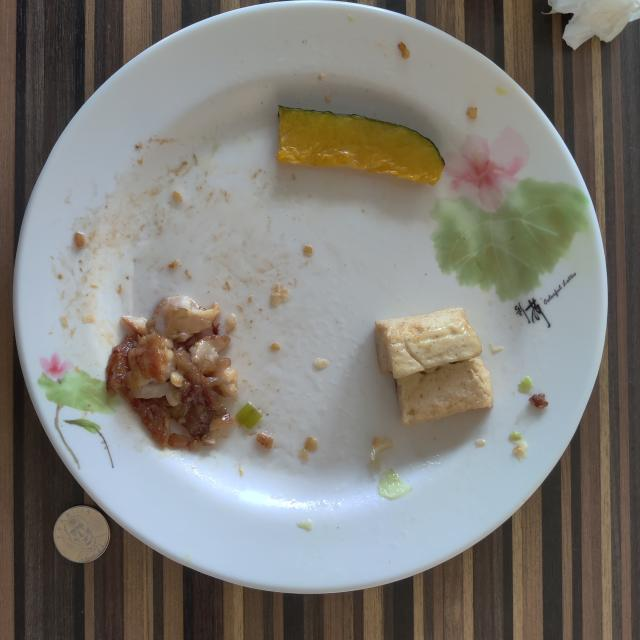Kabayaki sea bream fillet: (106, 295, 238, 449)
coin: (54, 506, 110, 562)
creamy tofu -without sauce-: (375, 308, 492, 425)
pumpkin: (276, 106, 444, 185)
